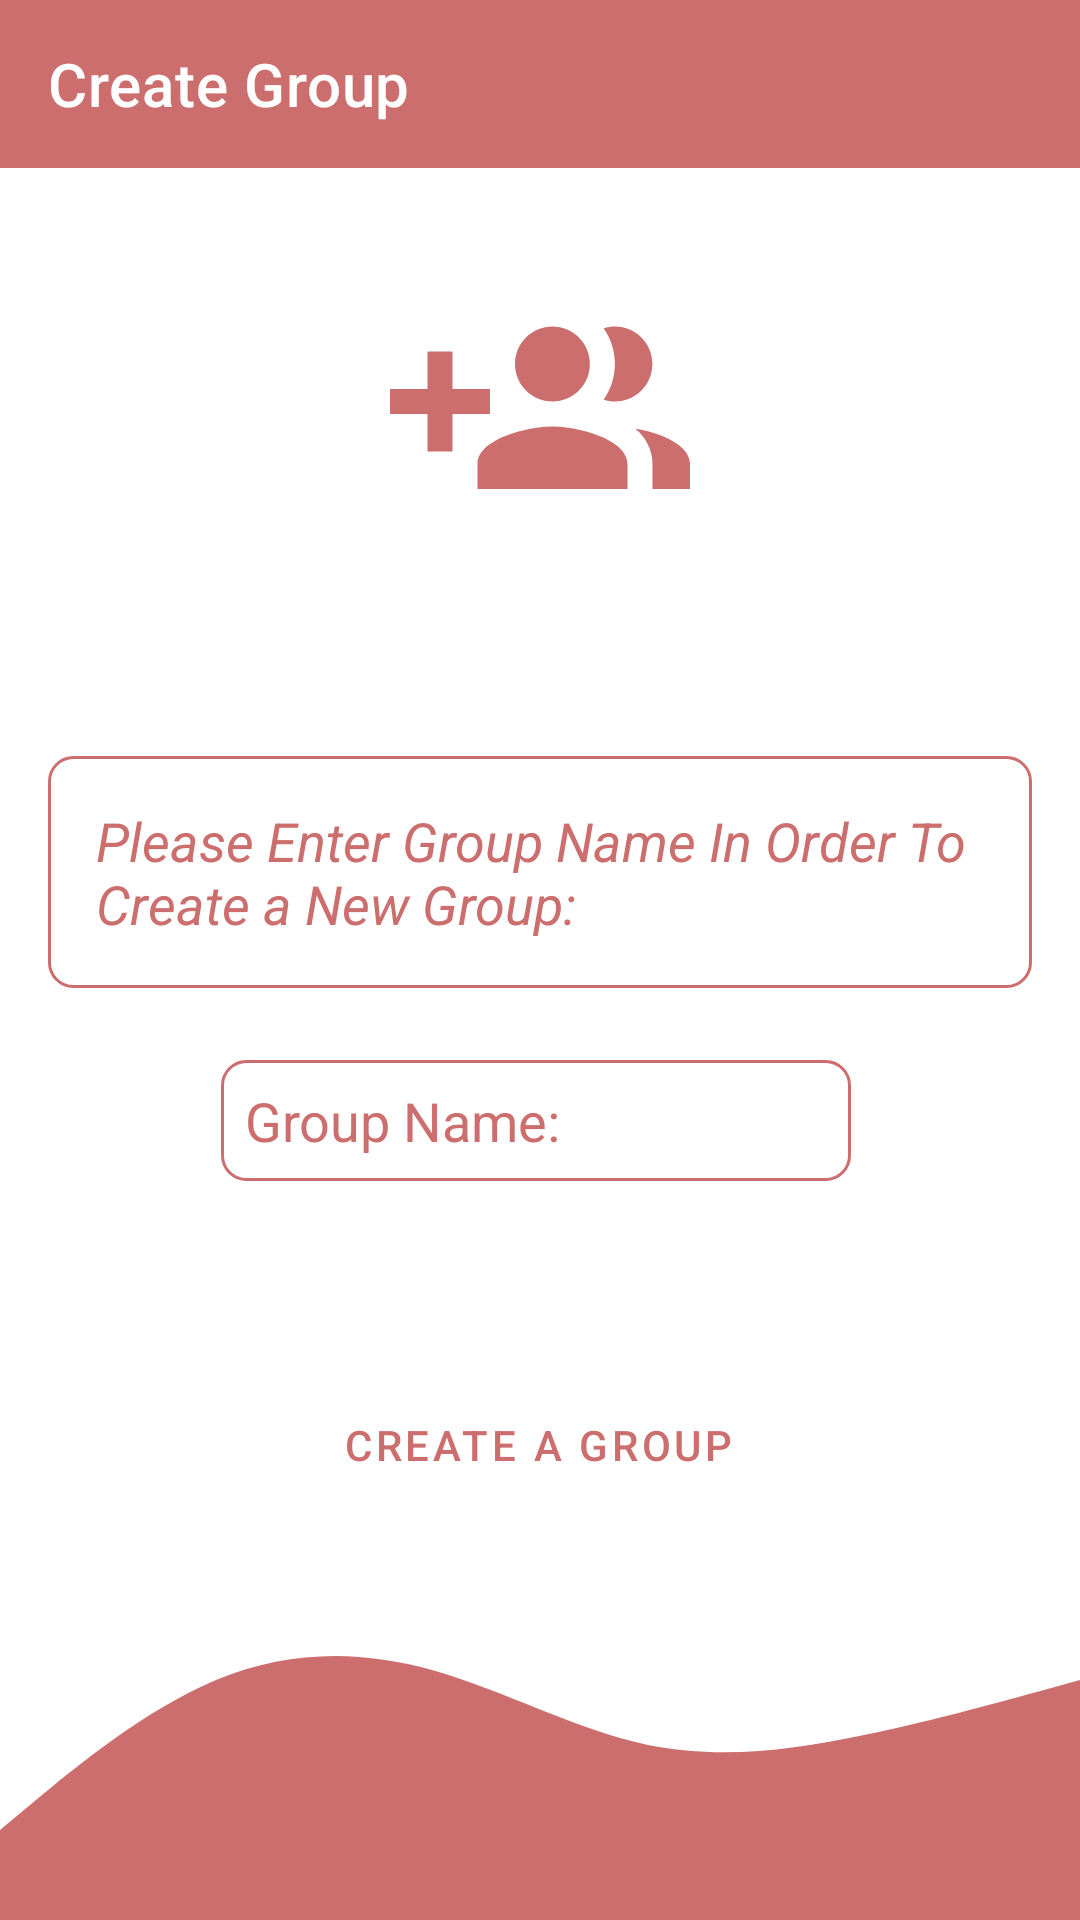

Named icons in this screenshot (1080px x 1920px) and their centers, (x,y):
add group: (540,407)
